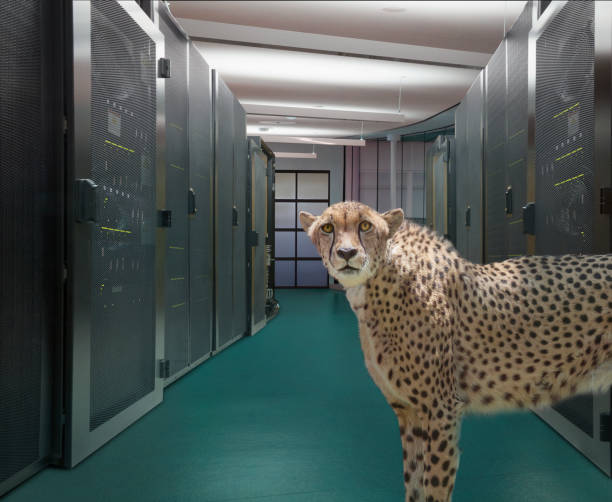cheetah: (277, 193, 414, 304)
